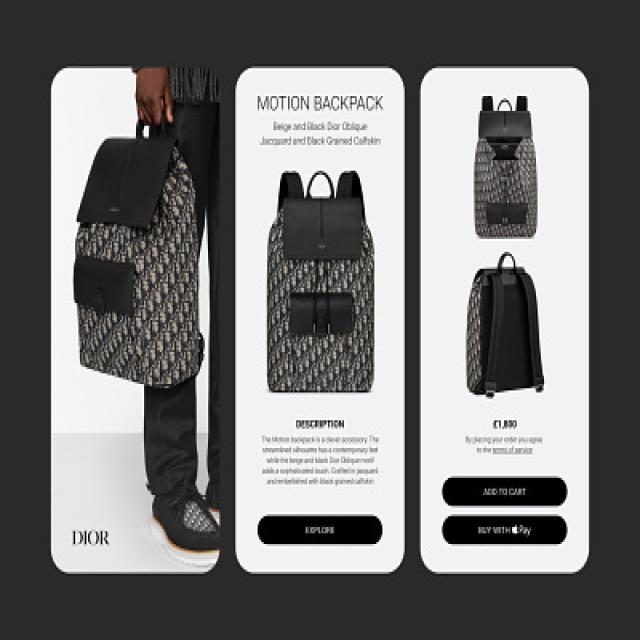backpack: (65, 117, 207, 398), (260, 166, 380, 403), (458, 251, 554, 403), (465, 92, 546, 244)
